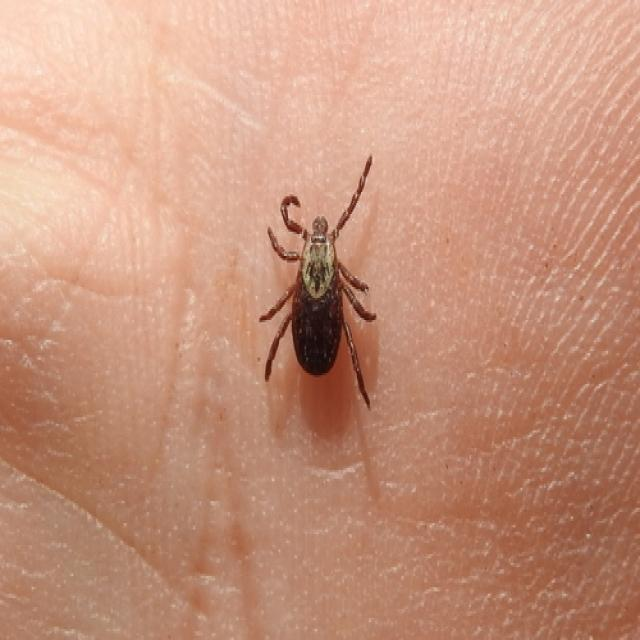Dermacentor Reticulatus-F: (260, 157, 378, 408)
